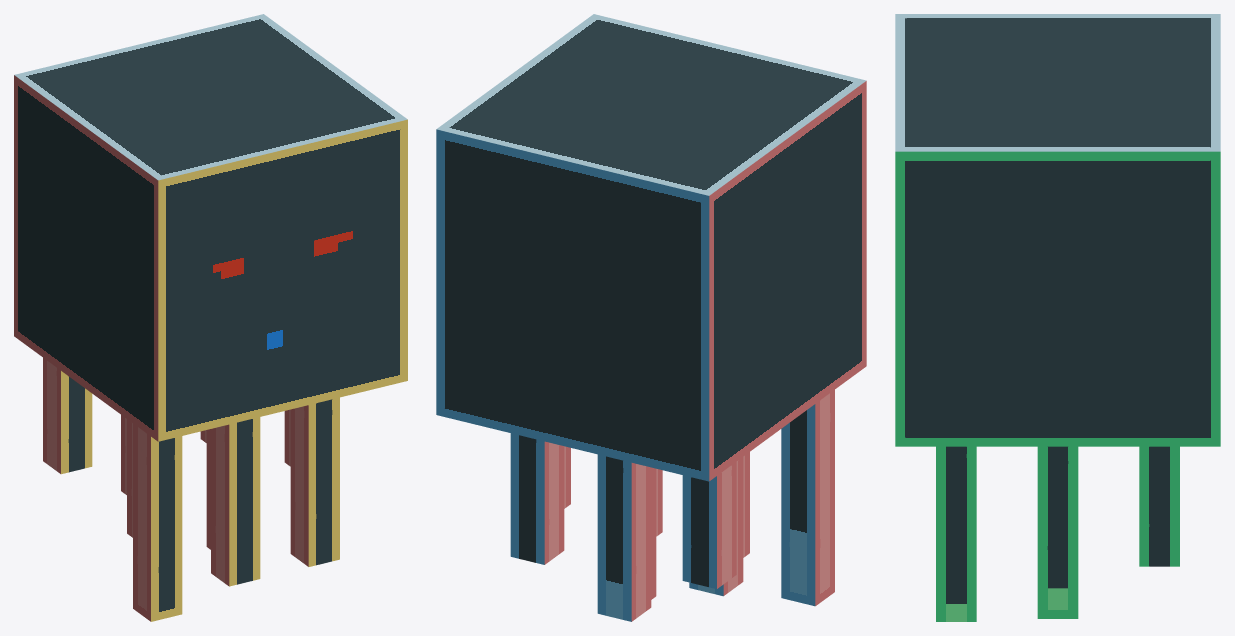
Rendered from ghast.gltf.
3 renders of one model, left to right at view 1: azimuth 30°, elevation 25°; view 2: azimuth 150°, elevation 25°; view 3: azimuth 270°, elevation 25°, orthographic. The views are drawn at different scales.
Visible parts, largest first — view 1: body, tentacles_8, tentacles_7, tentacles_6, tentacles_2, tentacles_5, tentacles_4; view 2: body, tentacles_8, tentacles_1, tentacles_0, tentacles_2, tentacles_5, tentacles_4, tentacles_7; view 3: body, tentacles_6, tentacles_3, tentacles_0, tentacles_4.
Part boxes in pixels (x1,y1,x2,y2): body: [14, 14, 407, 441]; tentacles_8: [133, 423, 182, 621]; tentacles_7: [211, 417, 260, 586]; tentacles_6: [290, 397, 339, 566]; tentacles_2: [43, 358, 92, 474]; tentacles_5: [127, 419, 132, 537]; tentacles_4: [206, 429, 210, 549]; body: [436, 14, 866, 481]; tentacles_8: [781, 390, 834, 606]; tentacles_1: [597, 454, 651, 621]; tentacles_0: [510, 433, 564, 564]; tentacles_2: [682, 462, 736, 588]; tentacles_5: [689, 457, 743, 596]; tentacles_4: [651, 467, 656, 599]; tentacles_7: [743, 452, 749, 557]; body: [895, 14, 1220, 446]; tentacles_6: [936, 446, 976, 621]; tentacles_3: [1037, 446, 1078, 588]; tentacles_0: [1139, 446, 1179, 566]; tentacles_4: [1037, 588, 1078, 618].
Bounding box in the file's own units: 1 × 1.75 × 1.
Materials: 1 (1 with a texture image).
